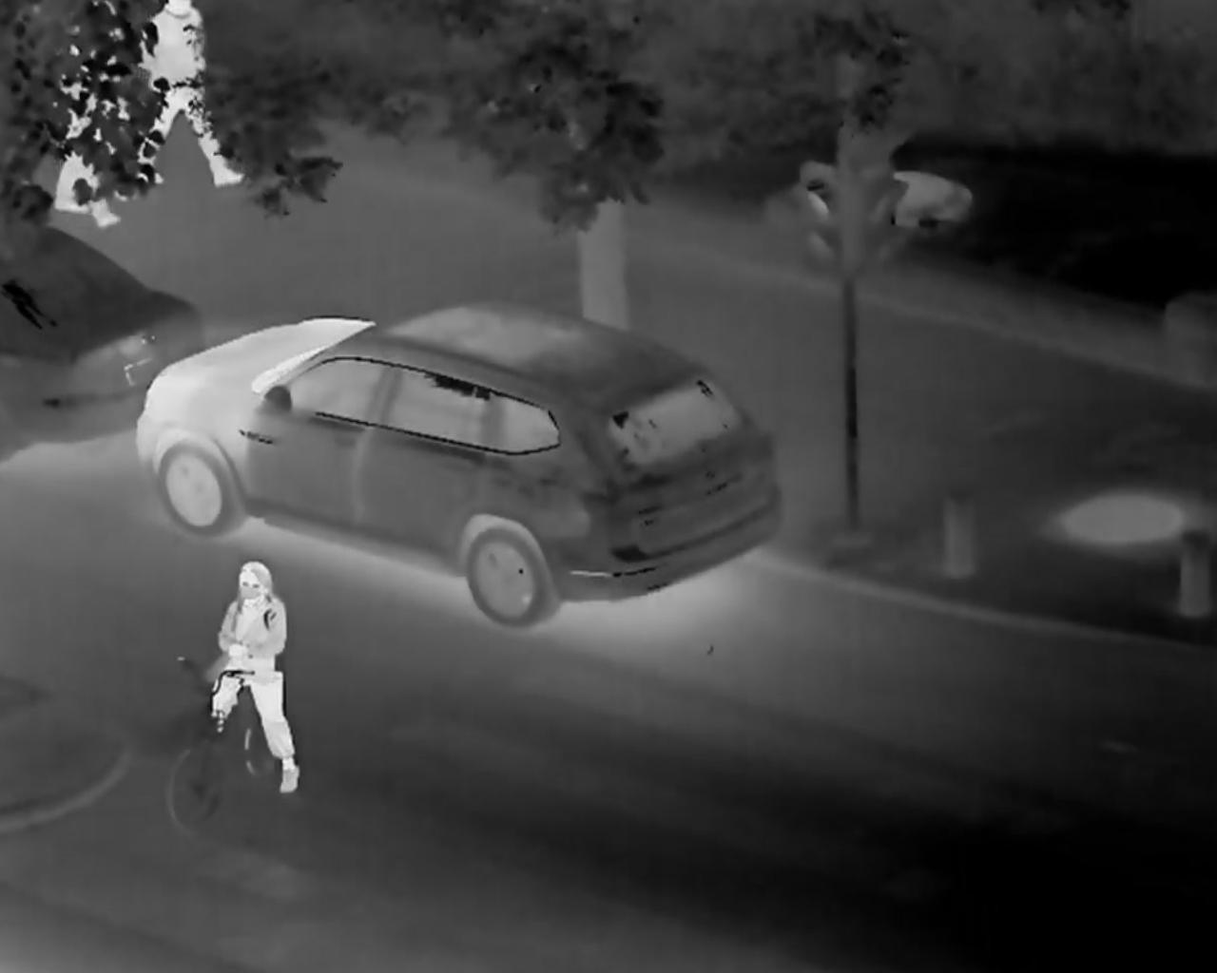person: (197, 552, 304, 798)
